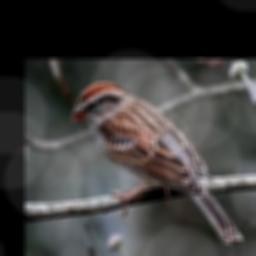Sparrow: (68, 81, 243, 245)
